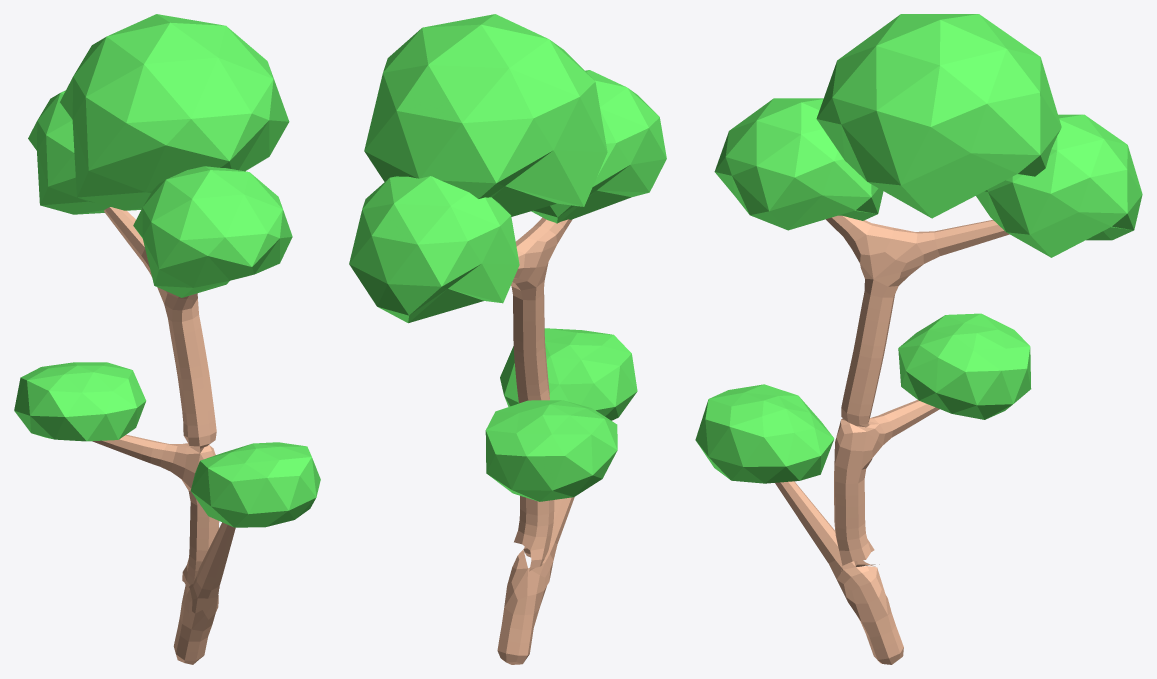
Rendered from tree5.gltf.
3 views of the same model, side by side, from view 1: azimuth 30°, elevation 25°; view 2: azimuth 150°, elevation 25°; view 3: azimuth 270°, elevation 25° (orthographic). The views are drawn at different scales.
Visible parts, largest first — view 1: Icosphere.002, Icosphere, Cube, Icosphere.003, Icosphere.004, Icosphere.001; view 2: Icosphere.002, Icosphere.001, Cube, Icosphere.004, Icosphere, Icosphere.003; view 3: Icosphere.002, Cube, Icosphere, Icosphere.001, Icosphere.004, Icosphere.003.
Part boxes in pixels (<box>): Icosphere.002: <box>60,14,289,210</box>; Icosphere: <box>133,166,292,297</box>; Cube: <box>92,207,235,664</box>; Icosphere.003: <box>190,442,320,527</box>; Icosphere.004: <box>14,362,146,441</box>; Icosphere.001: <box>28,90,110,214</box>; Icosphere.002: <box>364,14,607,216</box>; Icosphere.001: <box>349,176,519,323</box>; Cube: <box>497,217,574,664</box>; Icosphere.004: <box>485,400,617,501</box>; Icosphere: <box>531,70,666,223</box>; Icosphere.003: <box>500,328,637,420</box>; Icosphere.002: <box>816,14,1061,218</box>; Cube: <box>775,215,1009,664</box>; Icosphere: <box>714,98,883,230</box>; Icosphere.001: <box>976,114,1142,257</box>; Icosphere.004: <box>898,313,1031,419</box>; Icosphere.003: <box>695,384,834,483</box>.
Size of the model in its own units: 3.16 by 7.97 by 4.99.
